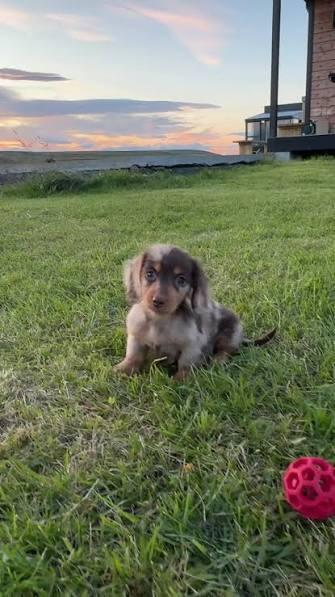puppy-dog: (111, 242, 277, 380)
